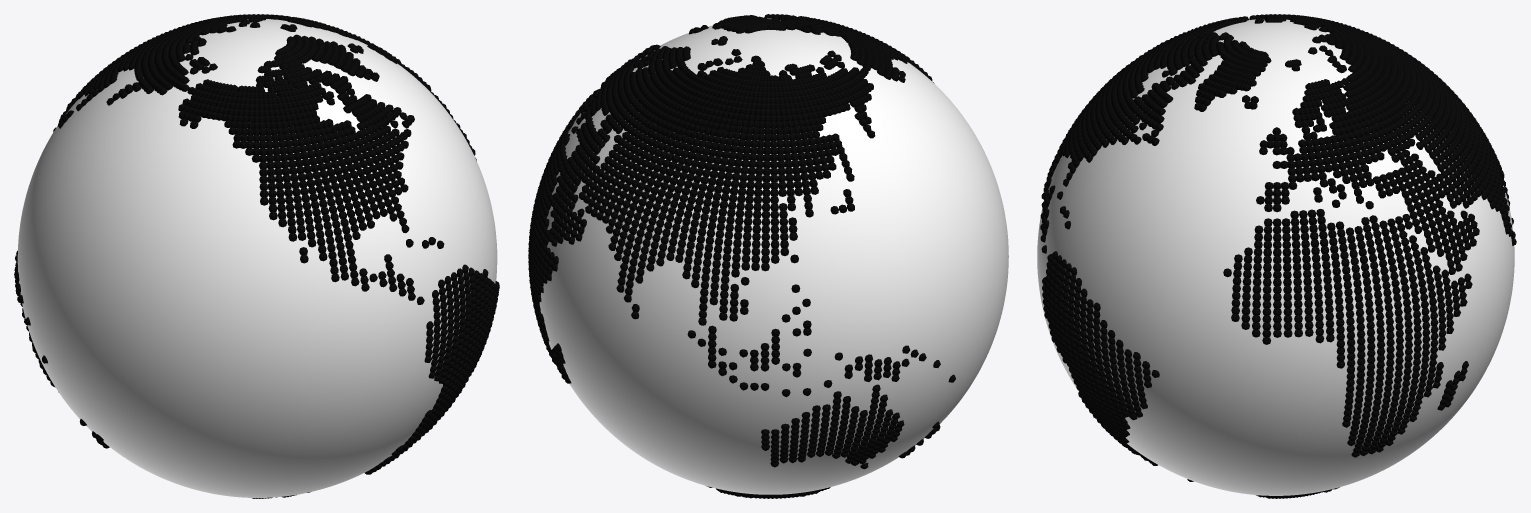
Rendered from world_earth_planet.glb.
3 views of the same model, side by side, from view 1: azimuth 30°, elevation 25°; view 2: azimuth 150°, elevation 25°; view 3: azimuth 270°, elevation 25° (orthographic).
Visible parts, largest first — view 1: Object_2, Object_13, Object_8, Object_4, Object_26, Object_25, Object_22, Object_16, Object_23, Object_5, Object_11, Object_10 (+19 smaller); view 2: Object_2, Object_12, Object_15, Object_10, Object_9, Object_6, Object_14, Object_7, Object_43, Object_5, Object_13, Object_23 (+23 smaller); view 3: Object_2, Object_44, Object_40, Object_43, Object_11, Object_42, Object_41, Object_12, Object_14, Object_49, Object_45, Object_5 (+24 smaller).
Boxes of the visible parts, box(x1,y1,x2,y2) form: Object_2: box(17, 19, 497, 497); Object_13: box(62, 80, 430, 205); Object_8: box(97, 36, 401, 155); Object_4: box(86, 46, 414, 168); Object_26: box(141, 18, 364, 109); Object_25: box(154, 14, 358, 103); Object_22: box(134, 16, 379, 122); Object_16: box(175, 15, 339, 88); Object_23: box(122, 29, 376, 135); Object_5: box(76, 51, 408, 183); Object_11: box(53, 100, 466, 263); Object_10: box(63, 92, 449, 241); Object_2: box(539, 18, 1008, 494); Object_12: box(549, 104, 788, 255); Object_15: box(576, 47, 890, 224); Object_10: box(559, 118, 797, 248); Object_9: box(586, 41, 907, 223); Object_6: box(595, 60, 915, 189); Object_14: box(571, 78, 934, 225); Object_7: box(623, 39, 905, 147); Object_43: box(541, 149, 749, 311); Object_5: box(590, 61, 919, 189); Object_13: box(580, 67, 932, 211); Object_23: box(635, 28, 899, 134); Object_2: box(1037, 19, 1514, 495); Object_44: box(1040, 178, 1513, 318); Object_40: box(1040, 200, 1516, 364); Object_43: box(1042, 151, 1507, 307); Object_11: box(1054, 106, 1497, 263); Object_42: box(1042, 162, 1507, 365); Object_41: box(1042, 277, 1453, 380); Object_12: box(1060, 90, 1494, 256); Object_14: box(1076, 98, 1478, 224); Object_49: box(1043, 305, 1449, 427); Object_45: box(1041, 180, 1510, 453); Object_5: box(1100, 56, 1450, 185).
Size of the model in its own units: 53.89 by 54.22 by 53.73.
3 materials, 1 textured.
